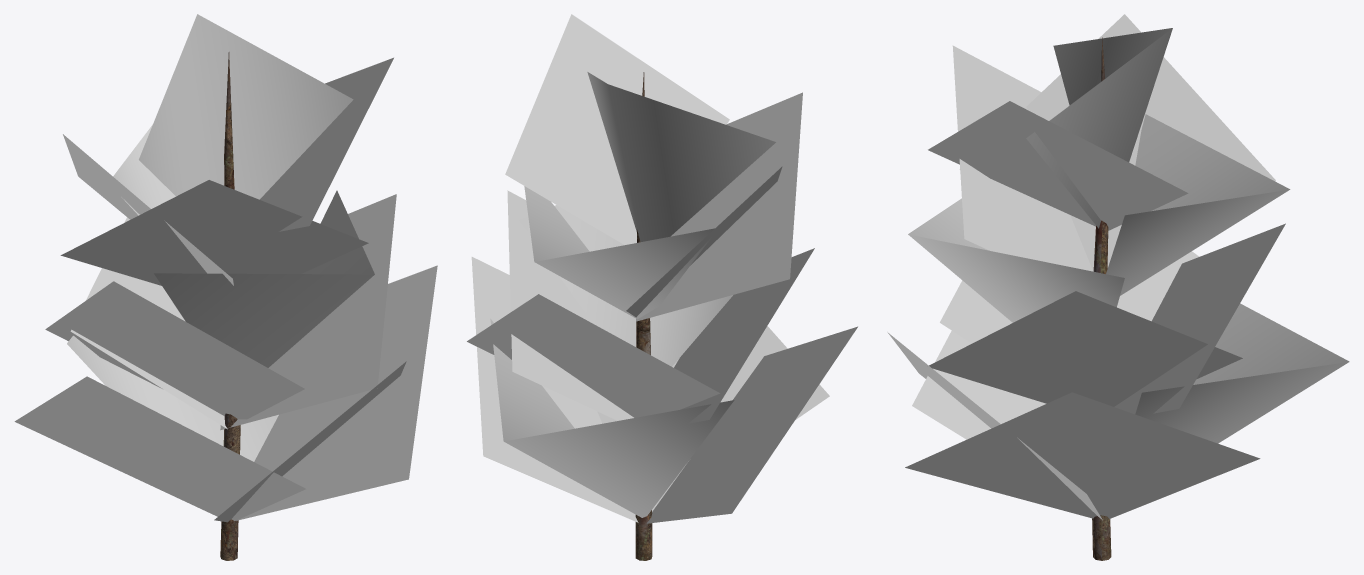
Rendered from SM_tree_b_baby.fbx.
3 views of the same model, side by side, from view 1: azimuth 30°, elevation 25°; view 2: azimuth 150°, elevation 25°; view 3: azimuth 270°, elevation 25° (orthographic). The views are drawn at different scales.
Visible parts, largest first — view 1: SM_tree_b_baby_LOD0; view 2: SM_tree_b_baby_LOD0; view 3: SM_tree_b_baby_LOD0.
Part boxes in pixels (box(x1,y1,x2,y2)): SM_tree_b_baby_LOD0: box(14, 14, 437, 560); SM_tree_b_baby_LOD0: box(467, 14, 857, 560); SM_tree_b_baby_LOD0: box(887, 14, 1349, 560).
Size of what is drawn, in the model's own units: 159 by 209 by 165.
